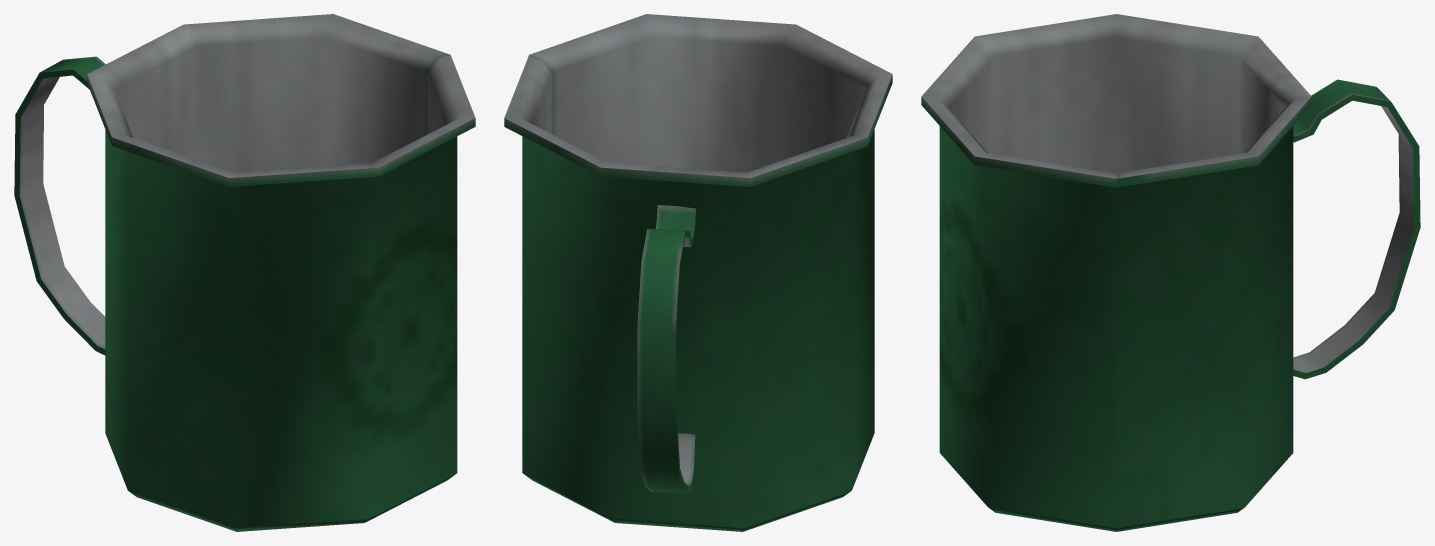
File: cup_steel_confederation.obj
3 views of the same model, side by side, from view 1: azimuth 30°, elevation 25°; view 2: azimuth 150°, elevation 25°; view 3: azimuth 270°, elevation 25° (orthographic).
Visible parts, largest first — view 1: cup_stainless_steel_military; view 2: cup_stainless_steel_military; view 3: cup_stainless_steel_military.
Boxes of the visible parts, left/top/right/bottom form: cup_stainless_steel_military: left=14, top=14, right=475, bottom=531; cup_stainless_steel_military: left=504, top=14, right=892, bottom=531; cup_stainless_steel_military: left=921, top=14, right=1420, bottom=531.
Bounding box in the file's own units: 0.2023 × 0.2088 × 0.2587.
